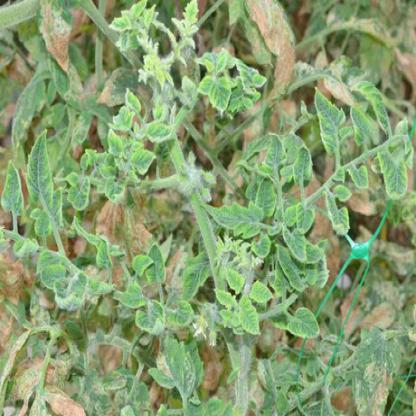Tomato leaf yellow virus: (119, 150, 170, 180), (139, 116, 180, 145), (235, 298, 264, 339), (209, 70, 229, 123), (221, 268, 257, 297)
